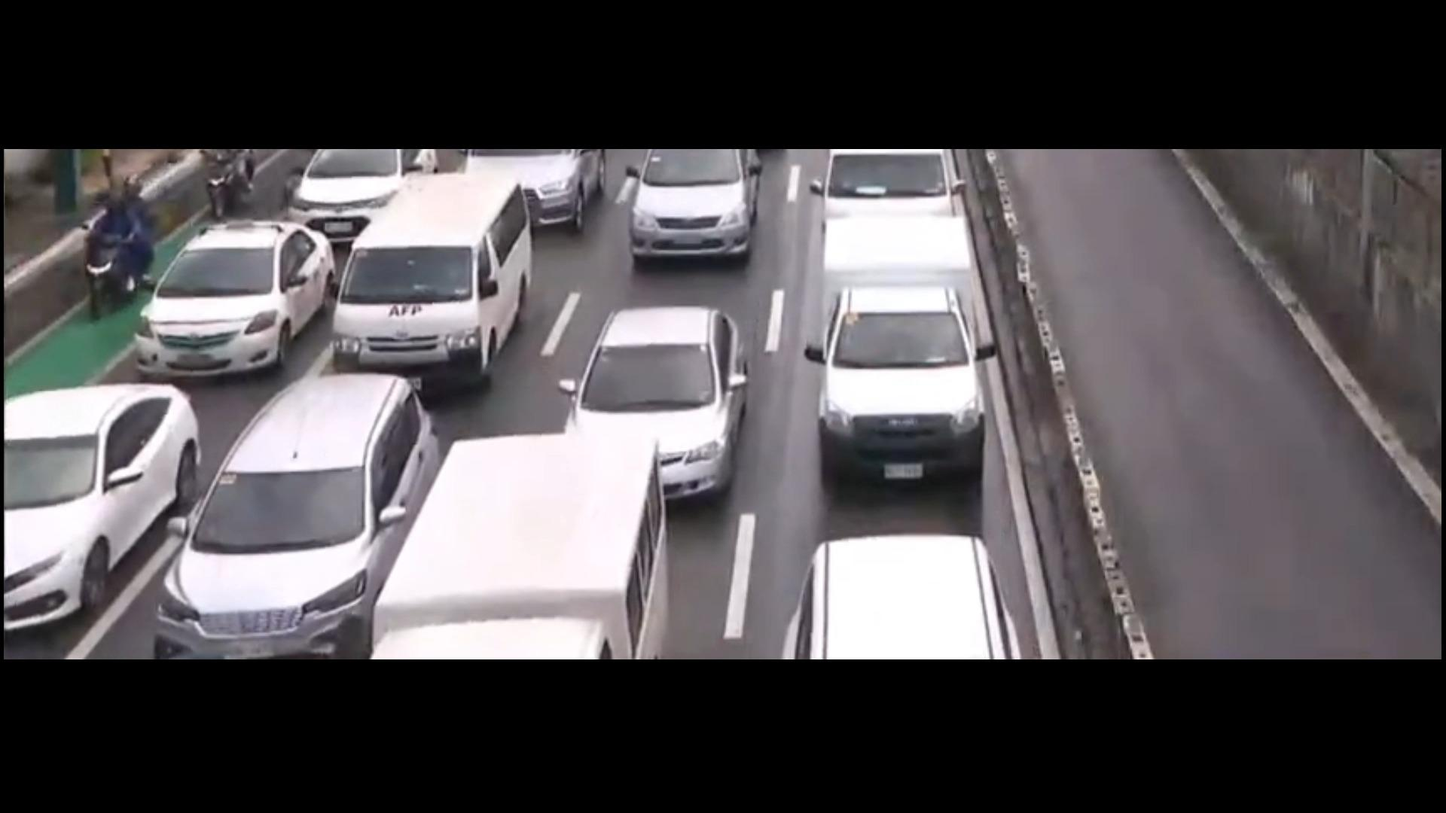Motorcycle: (79, 168, 158, 321), (189, 148, 262, 217)
Multicab: (368, 429, 664, 658), (818, 212, 981, 495)
SUV: (134, 359, 430, 660), (783, 533, 1025, 657), (631, 150, 760, 263), (464, 150, 612, 227)
Sedan: (5, 380, 205, 635), (558, 305, 753, 503), (133, 221, 337, 379), (286, 149, 438, 241)
Van: (329, 172, 536, 399)
